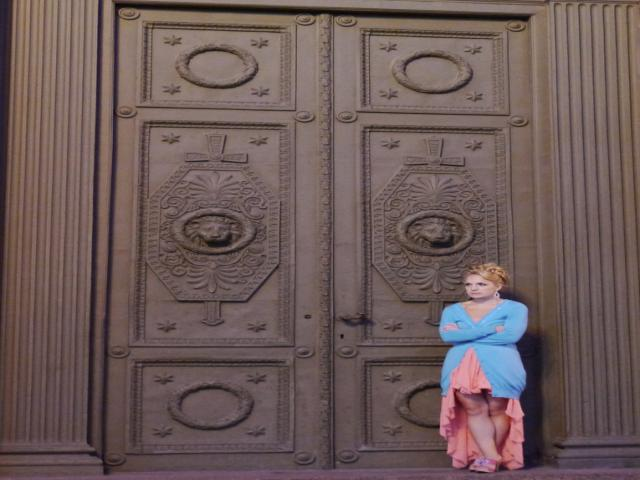Door-handle: (336, 313, 368, 320)
